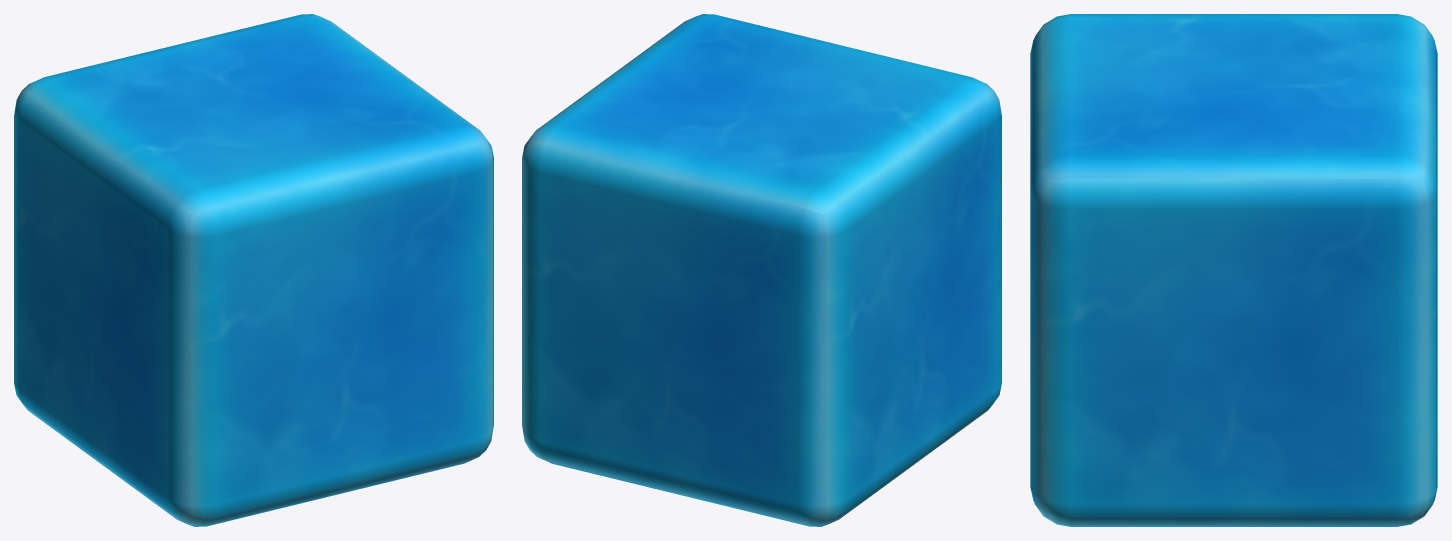
3 views of the same model, side by side, from view 1: azimuth 30°, elevation 25°; view 2: azimuth 150°, elevation 25°; view 3: azimuth 270°, elevation 25° (orthographic). The views are drawn at different scales.
Visible parts, largest first — view 1: 4050; view 2: 4050; view 3: 4050.
Boxes of the visible parts, x1,y1,x2,y2 form: 4050: (14, 14, 493, 526); 4050: (522, 14, 1001, 526); 4050: (1030, 14, 1437, 526).
Size of the model in its own units: 1 by 0.995 by 1.
Materials: 1 (1 with a texture image).
